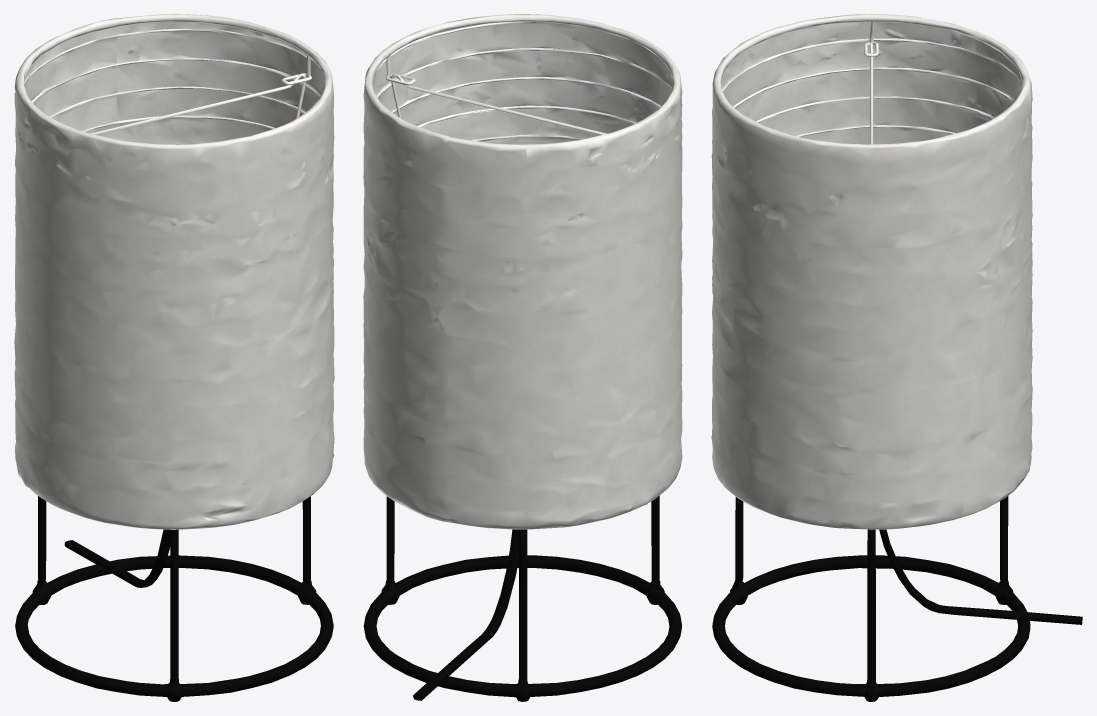
3 renders of one model, left to right at view 1: azimuth 30°, elevation 25°; view 2: azimuth 150°, elevation 25°; view 3: azimuth 270°, elevation 25°, orthographic.
Parts seen in each view (by area): view 1: 60594343-STRANDAD002; view 2: 60594343-STRANDAD002; view 3: 60594343-STRANDAD002.
Part boxes in pixels (left/top/right/bottom): 60594343-STRANDAD002: left=14, top=14, right=334, bottom=701; 60594343-STRANDAD002: left=363, top=14, right=682, bottom=701; 60594343-STRANDAD002: left=711, top=14, right=1082, bottom=701.
Size of the model in its own units: 0.1517 by 0.289 by 0.1748.
1 material, 1 textured.
